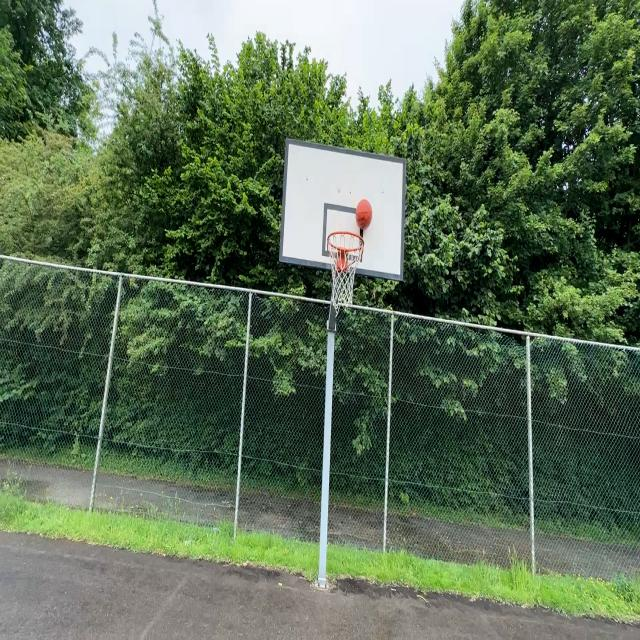rebound_hit: (355, 198, 372, 230)
